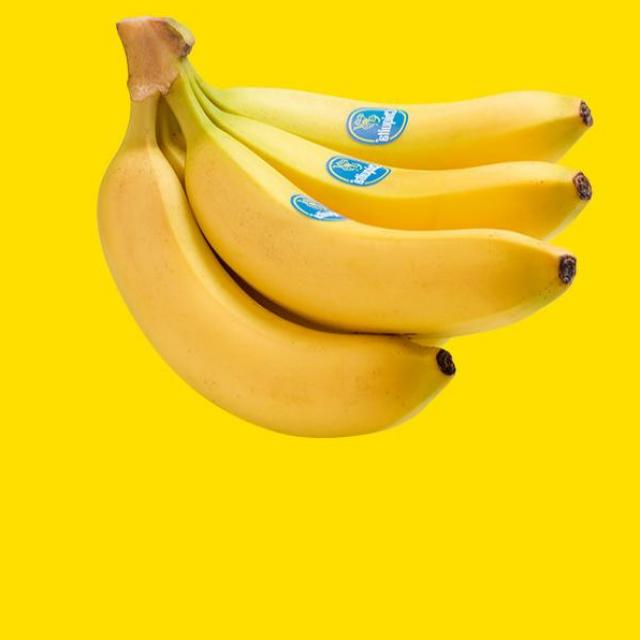banana: (82, 143, 460, 443), (166, 121, 592, 353), (176, 82, 601, 250), (177, 72, 609, 171)
